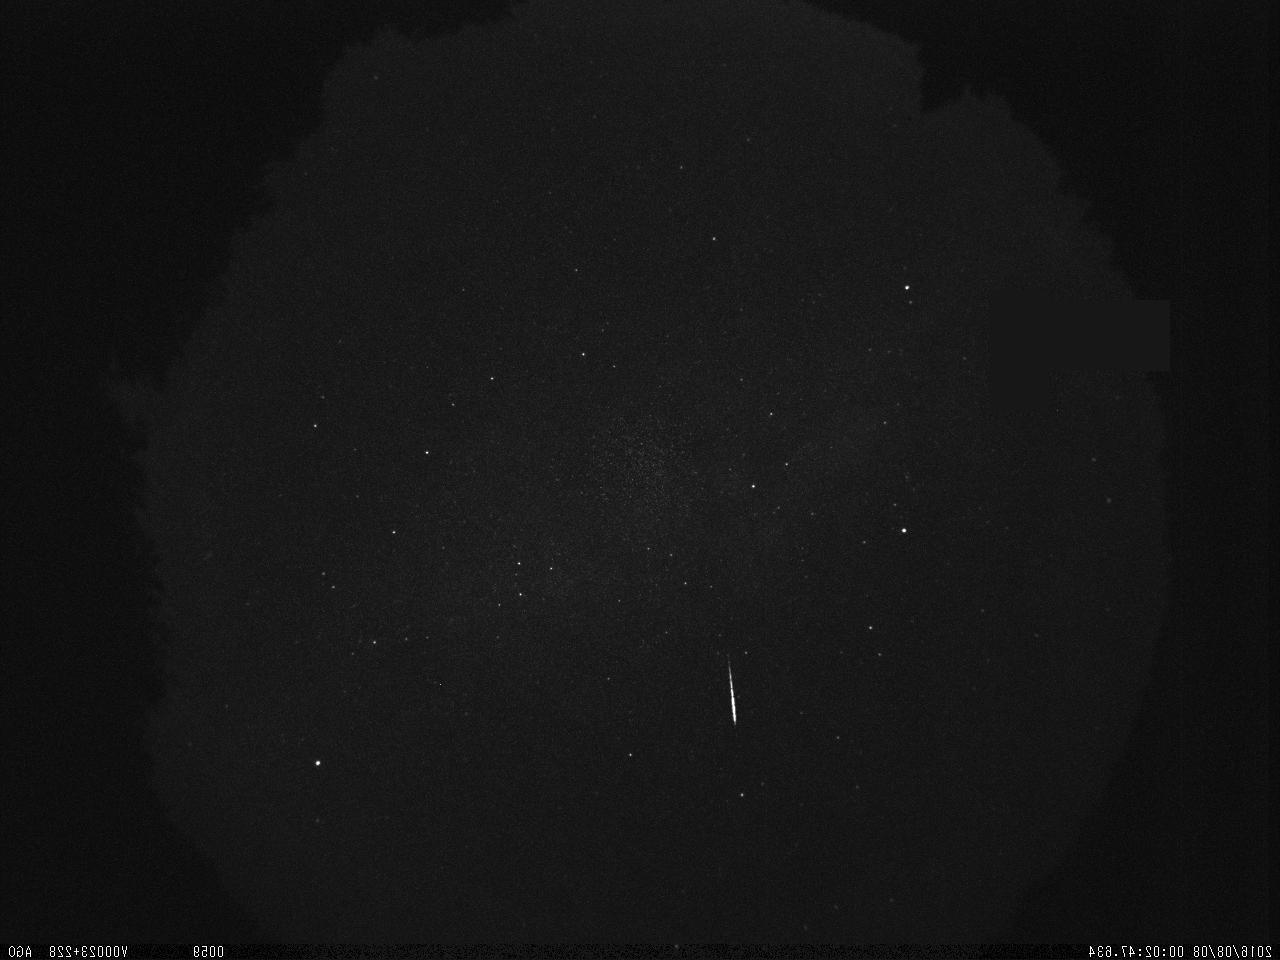meteor: (714, 638, 752, 738)
